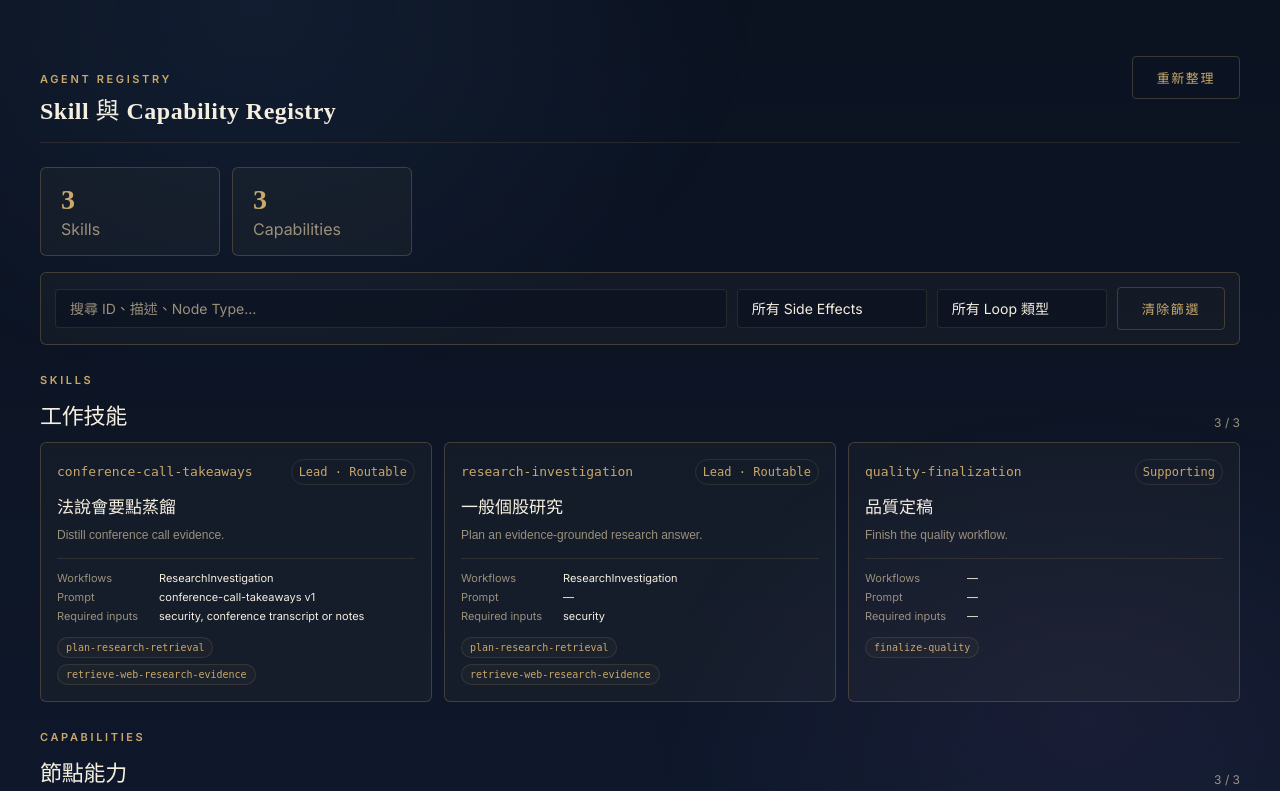
AgentRegistryView › searches fields and expands capability details
Type "retrieveWebEvidence" into the field with class "search".
click(391, 308); type("retrieveWebEvidence")  # box [55,289,727,328]
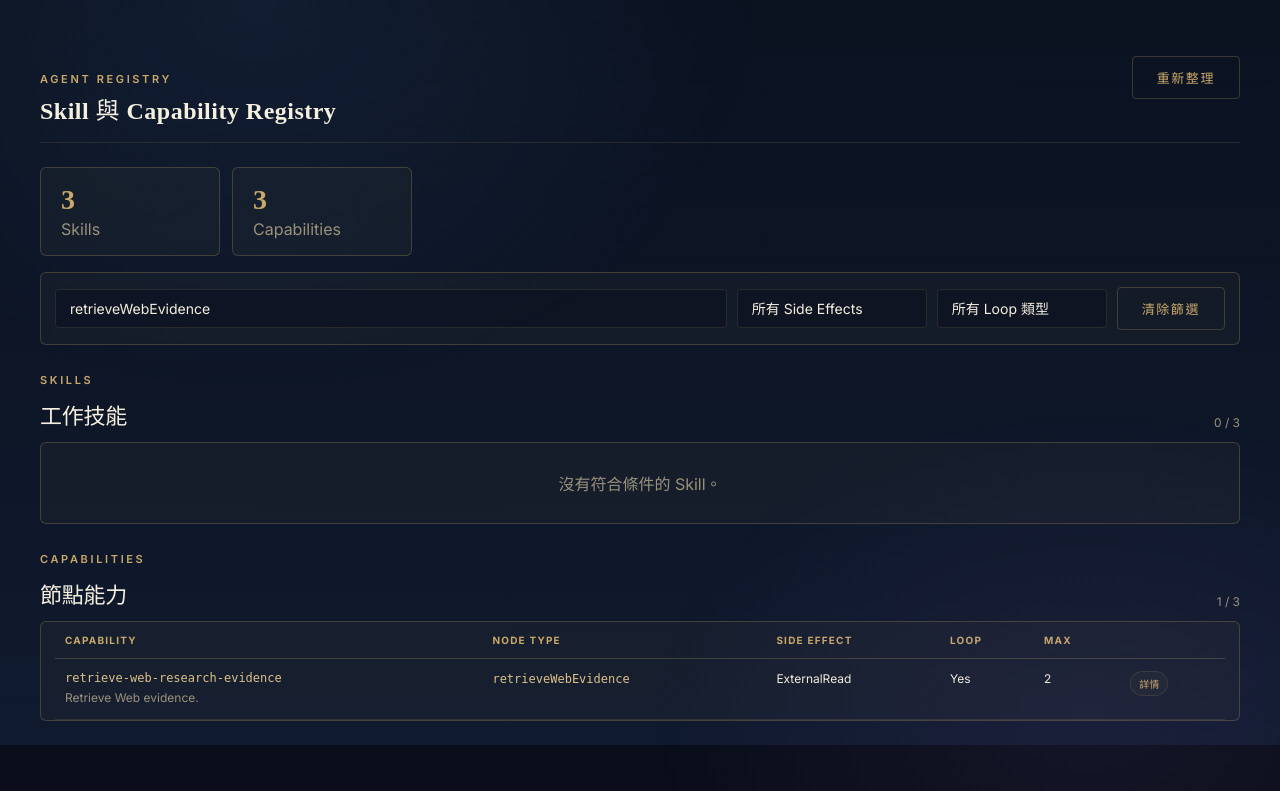
Expected: the text "retrieve-web-research-evidence" is shown, [65,671,282,685]
Click the button with class "detail-button".
click(1149, 683)  # box [1130,671,1168,696]
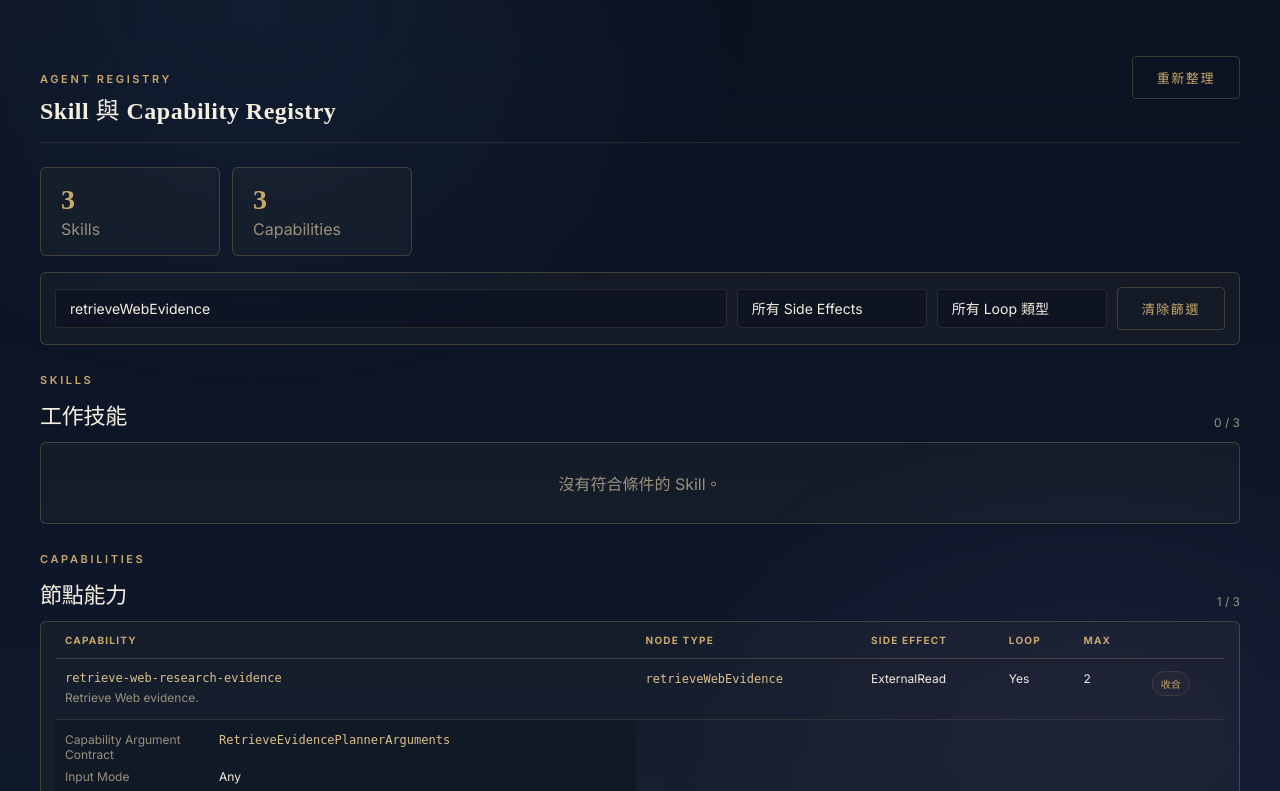
Expected: the text "RetrieveEvidencePlannerArguments" is shown, [219,733,450,747]
Expected: the text "Capability Argument Contract" is shown, [65,732,181,762]
